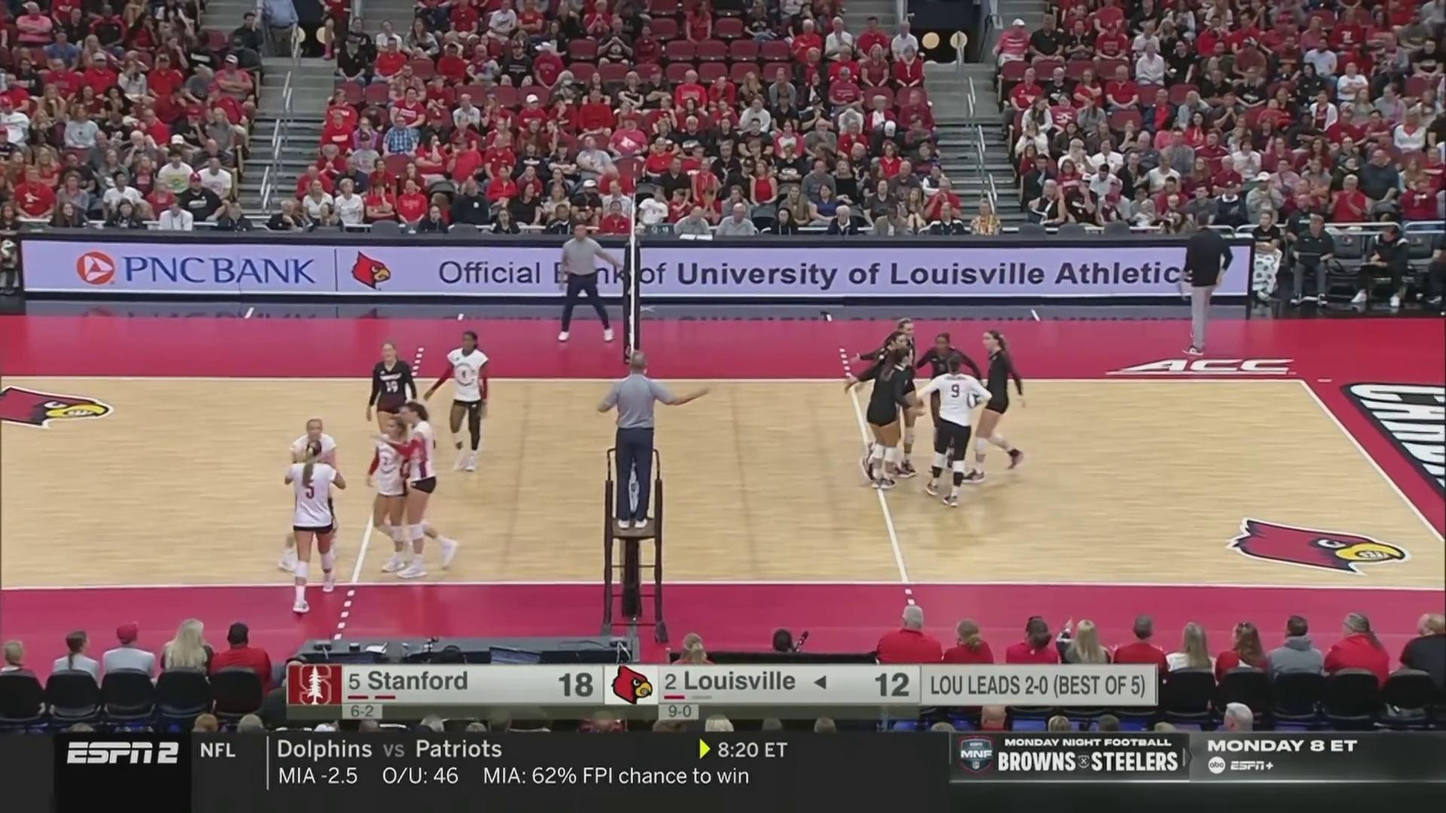player: (284, 416, 347, 573), (401, 402, 457, 577), (920, 358, 985, 506), (431, 332, 491, 473), (971, 330, 1025, 483), (293, 446, 341, 612), (367, 338, 419, 482), (925, 329, 977, 471), (878, 316, 921, 478), (866, 348, 915, 488), (369, 414, 409, 579), (871, 333, 915, 481)
refree: (600, 350, 707, 526), (555, 225, 616, 342)
